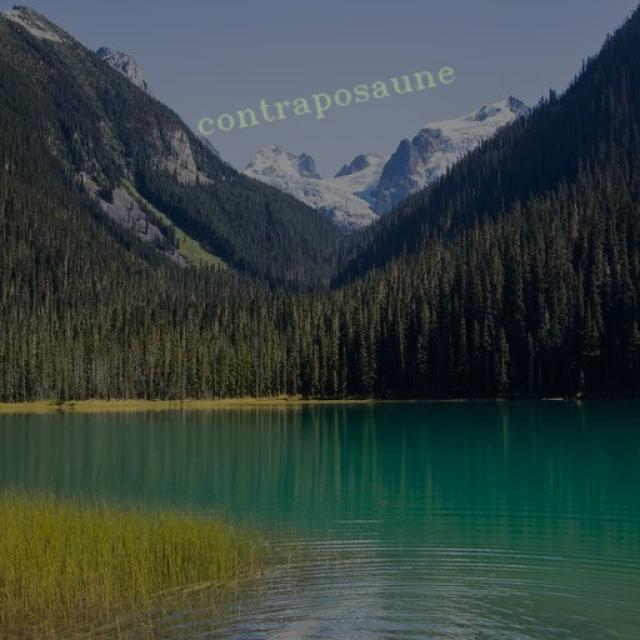watermark: (189, 56, 456, 140)
